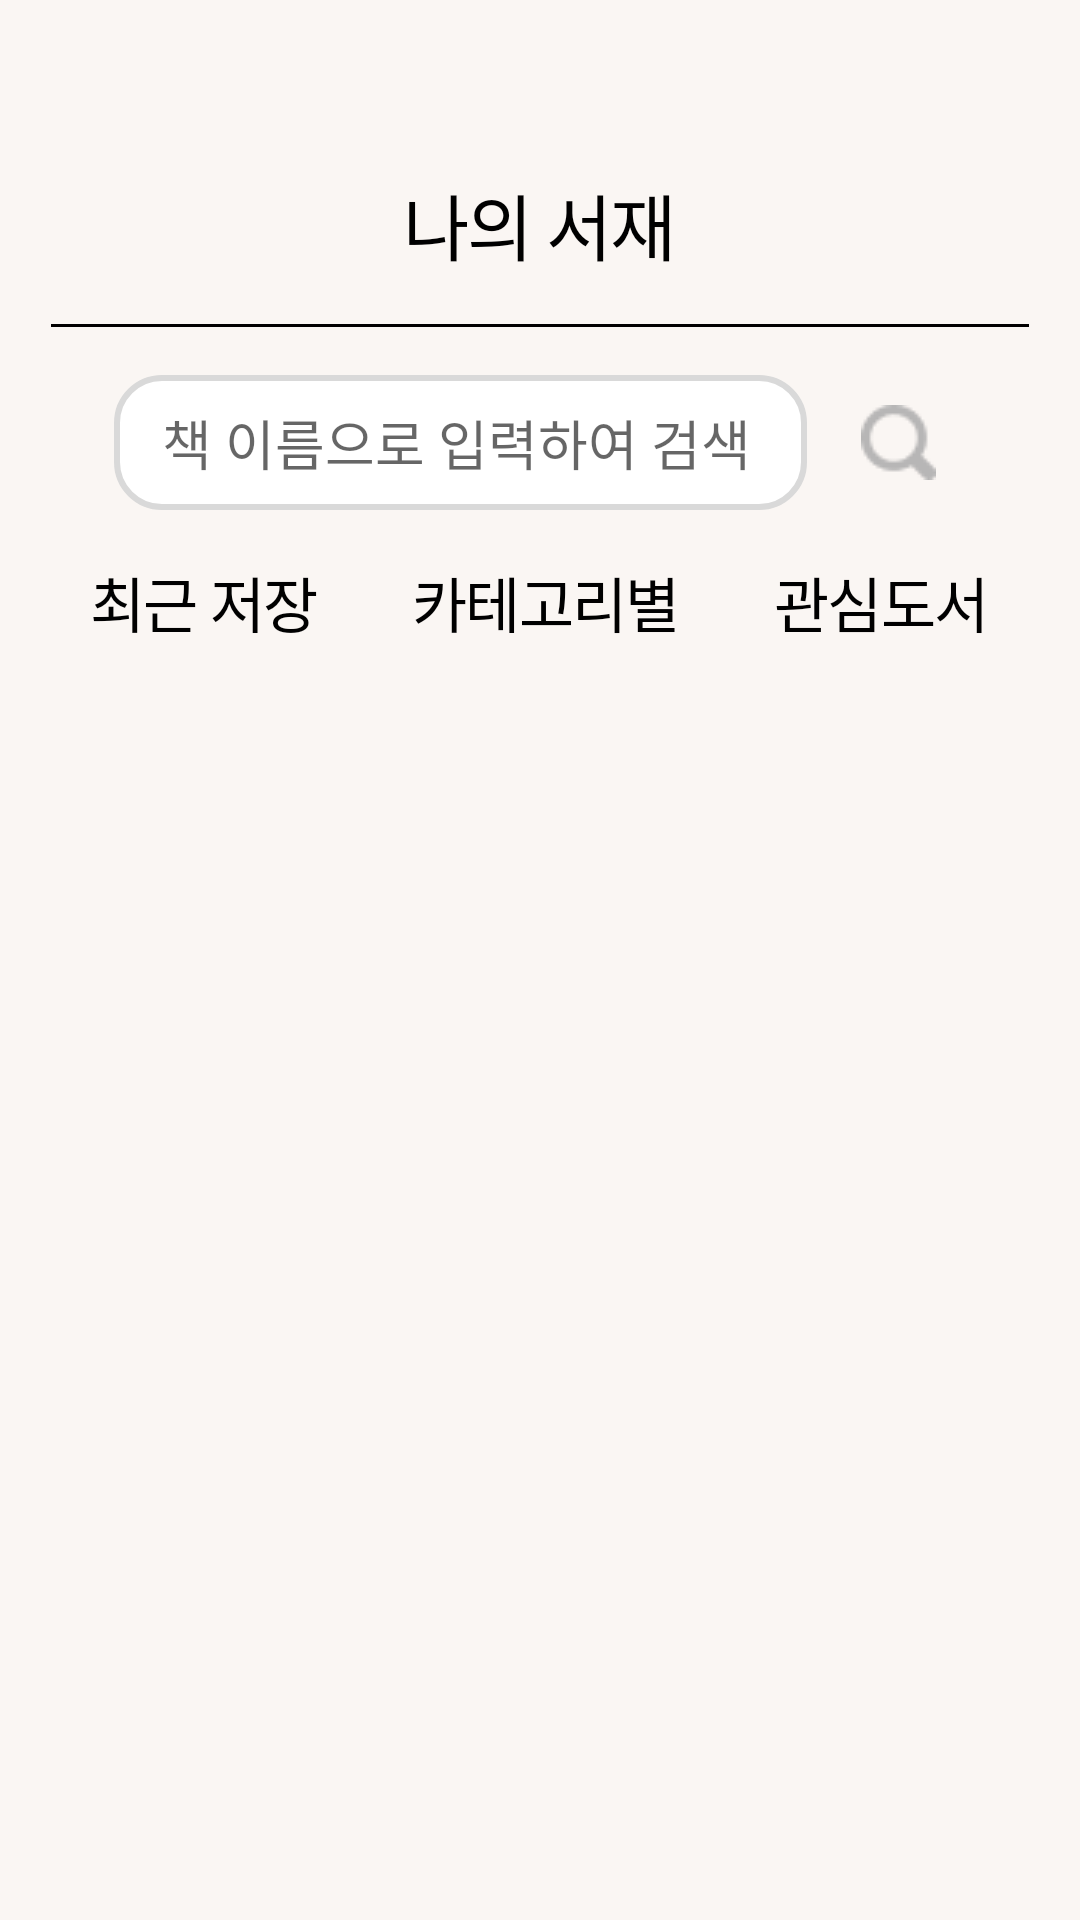

Where to tap for icons on this 1080px×1920px app screen, as point (x, y):
search: point (898, 442)
